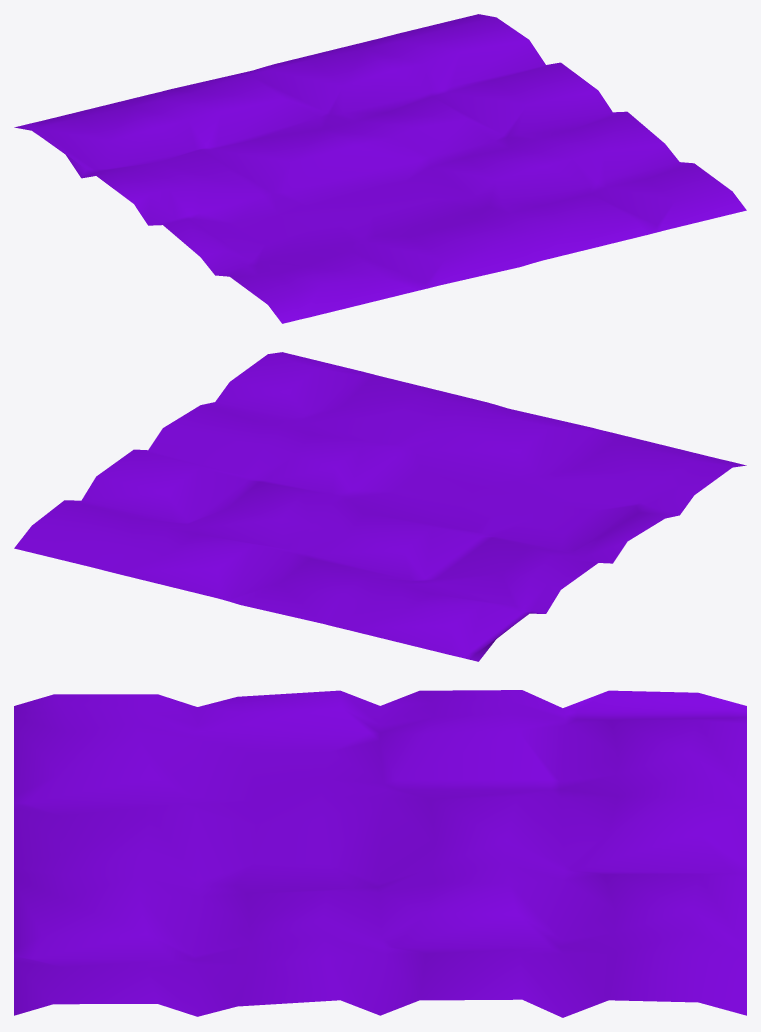
The model's file is BrickVarient1_low.fbx.
The picture shows the model from 3 angles, top to bottom: view 1: azimuth 30°, elevation 25°; view 2: azimuth 150°, elevation 25°; view 3: azimuth 270°, elevation 25°; orthographic projection. The views are drawn at different scales.
Visible parts, largest first — view 1: BrickVarient1_low; view 2: BrickVarient1_low; view 3: BrickVarient1_low.
Boxes of the visible parts, x1,y1,x2,y2 form: BrickVarient1_low: (14,14,746,323); BrickVarient1_low: (14,352,746,661); BrickVarient1_low: (14,690,746,1017).
Bounding box in the file's own units: 100 × 3.02 × 100.
